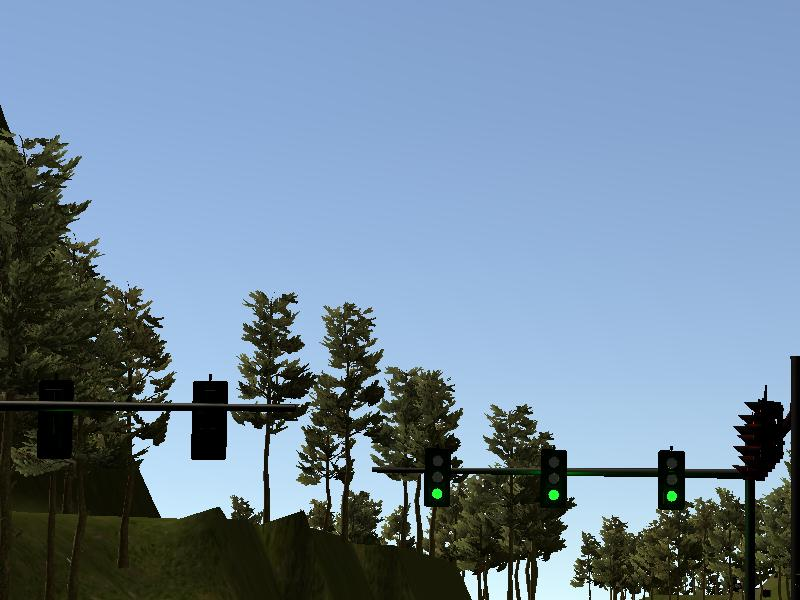green: (423, 447, 450, 508), (540, 450, 567, 511), (657, 449, 684, 510)
